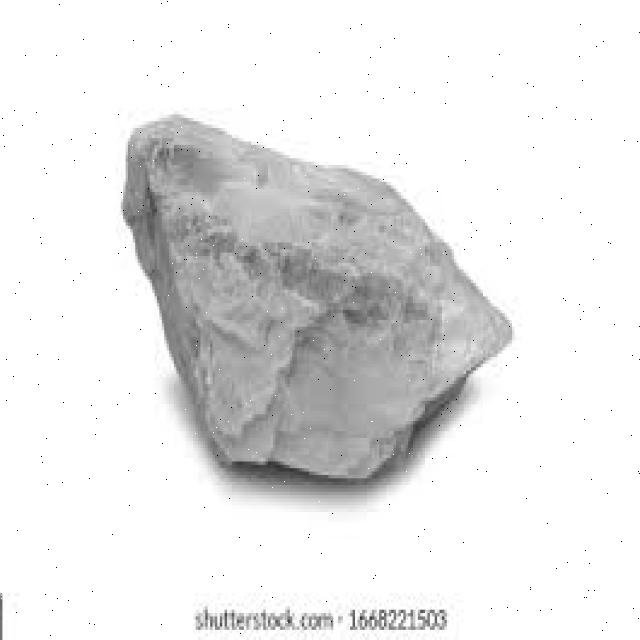Metamorphic: (116, 111, 514, 482)
